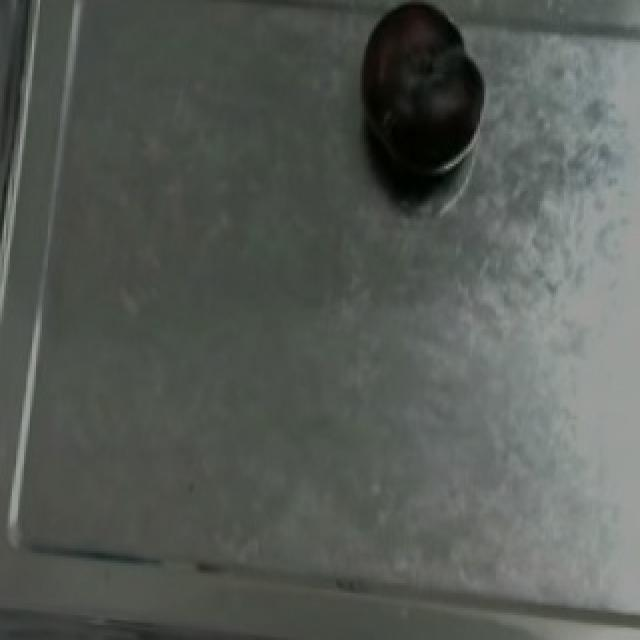Fruit: (346, 0, 502, 196)
